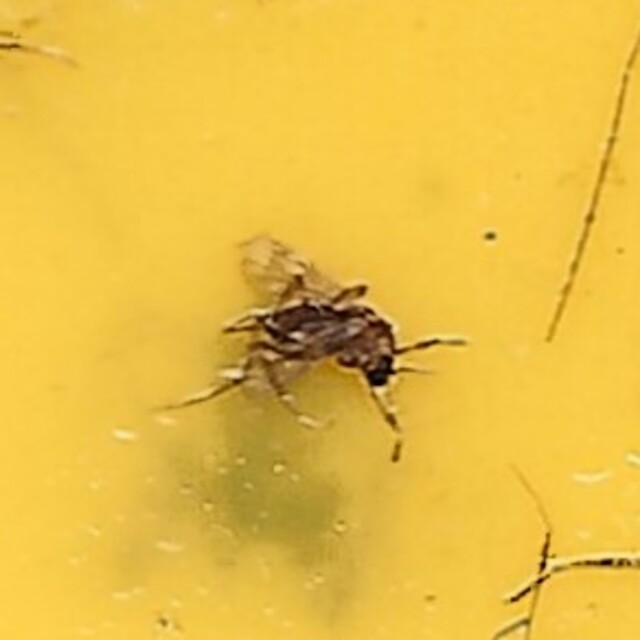Nematocera: (219, 227, 421, 413)
